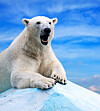PolarBear: (0, 17, 71, 92)
